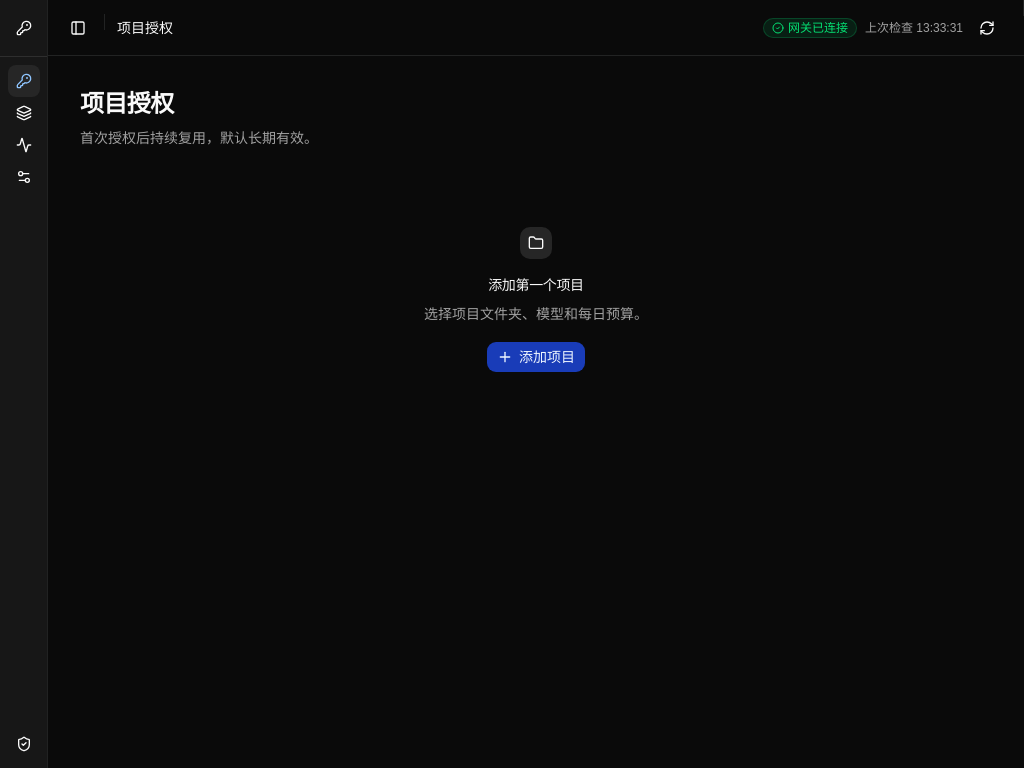
authorization handoff › does not label a stale successful connection as connected after a failed refresh
Expected: the text "网关已连接" is shown, [763,18,857,38]
What coordinates should you click on to do the following:
click the button named "刷新网关状态"
I would click on:
 (987, 28)
Its box is [971,12,1003,44].
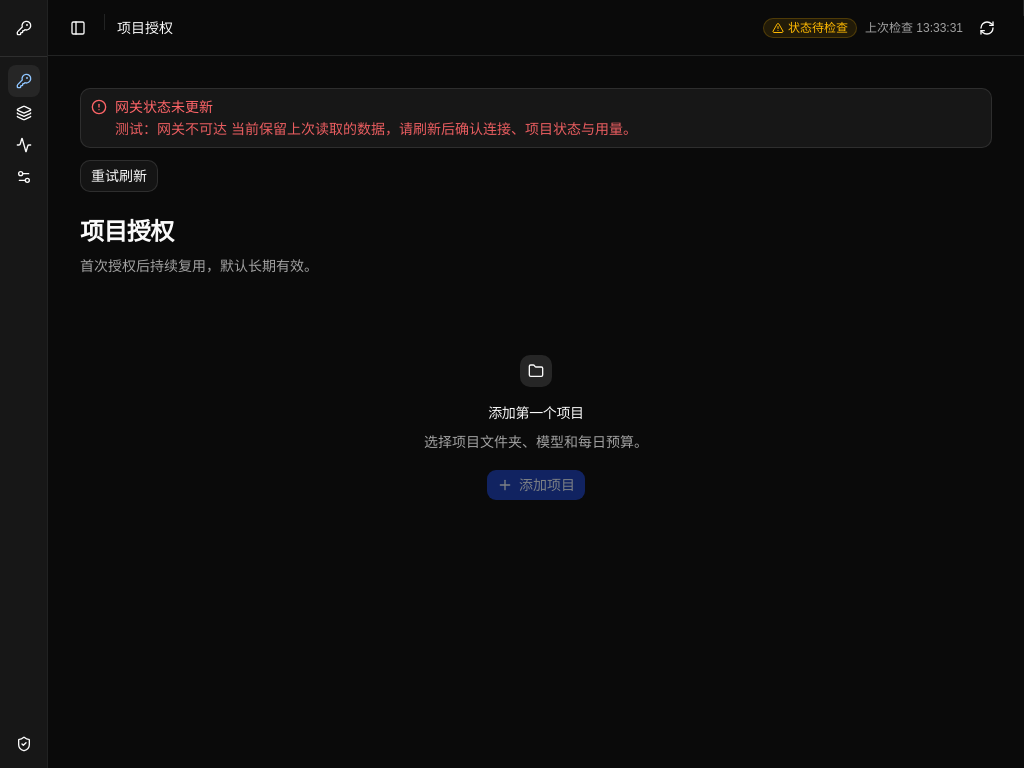
Expected: the text "网关已连接" is gone
Expected: the text "状态待检查" is shown, [763,18,857,38]
Expected: the button "添加项目" is disabled, [486,469,586,501]
